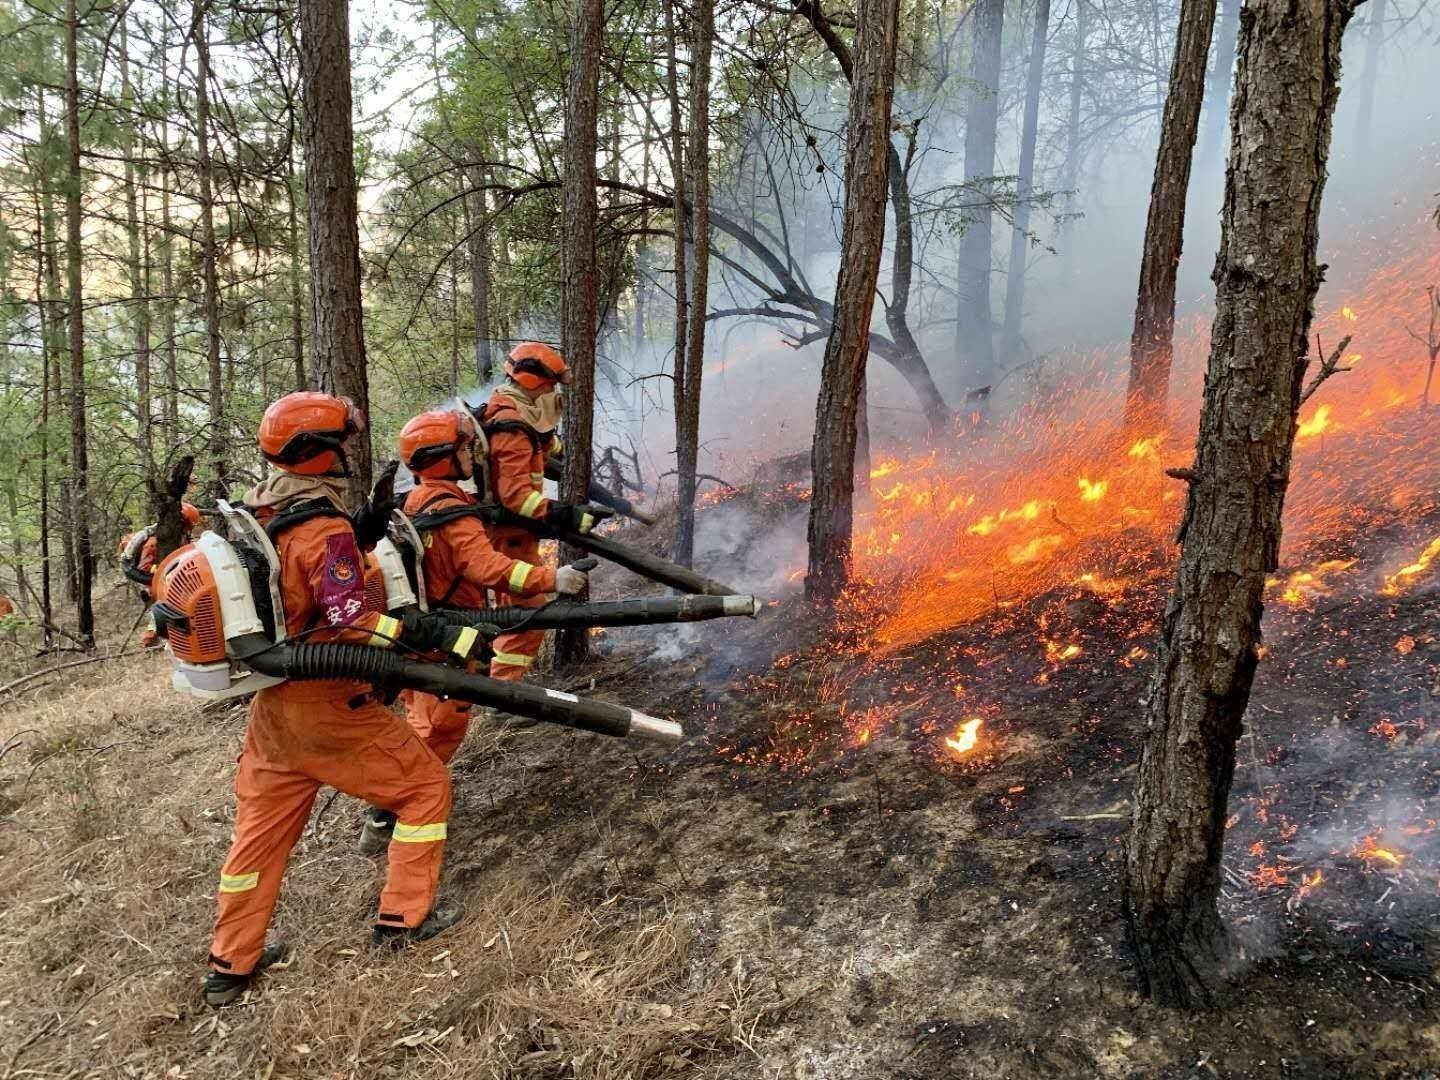fire: (788, 362, 1205, 781)
